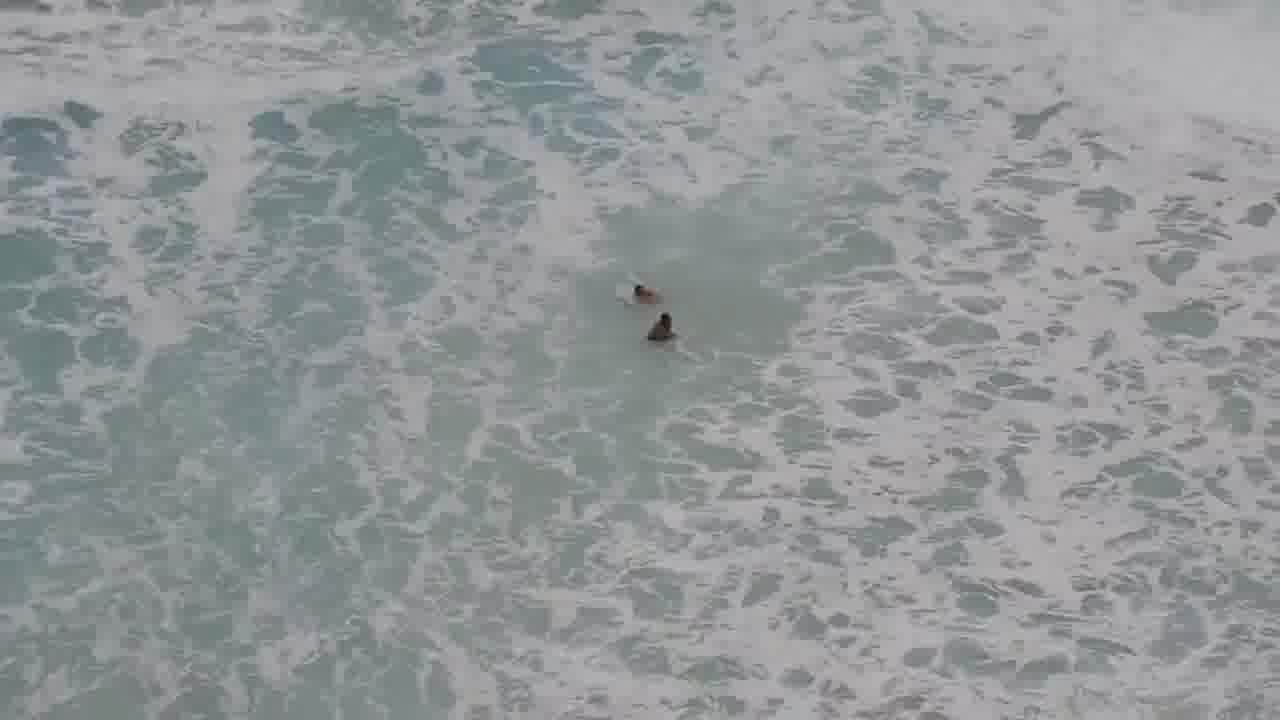swimmer: (620, 272, 659, 306), (643, 314, 678, 344)
